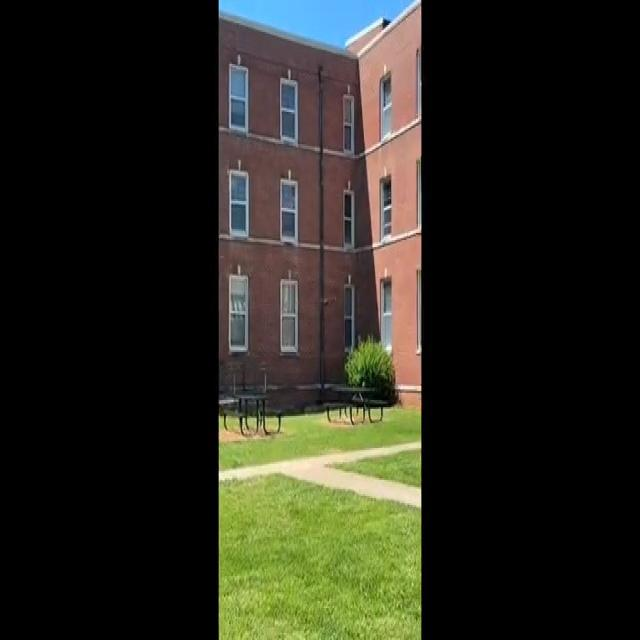drone: (314, 291, 338, 310)
